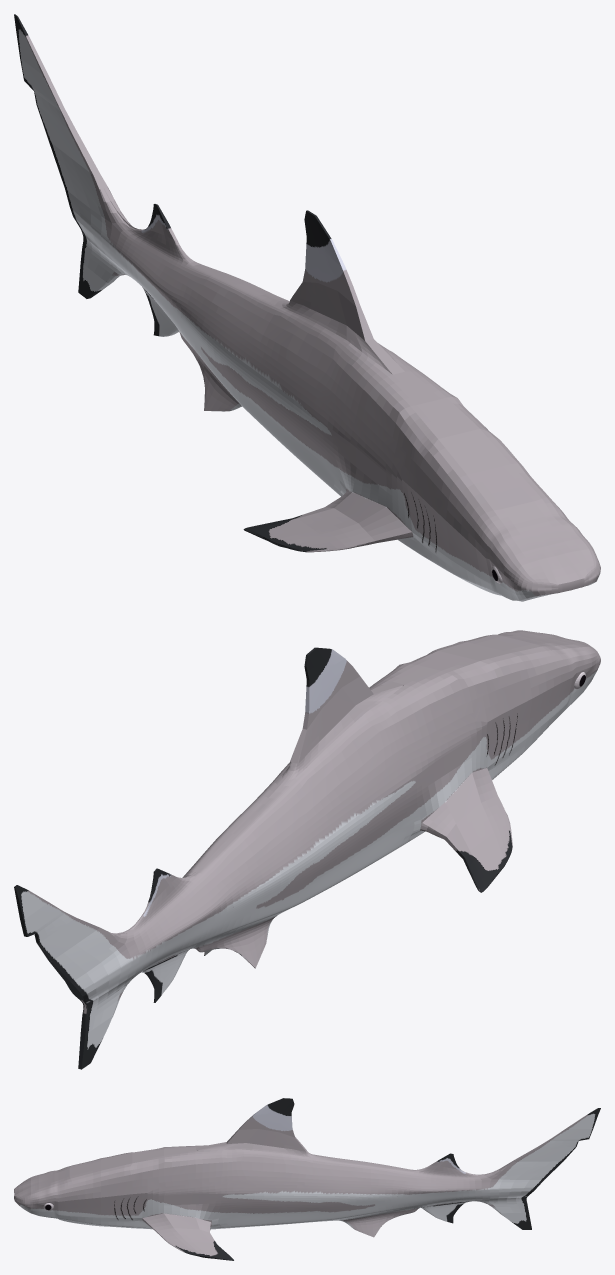
File: sharkv2_lowpoly.fbx
The picture shows the model from 3 angles, top to bottom: view 1: azimuth 30°, elevation 25°; view 2: azimuth 150°, elevation 25°; view 3: azimuth 270°, elevation 25°; orthographic projection. The views are drawn at different scales.
Parts seen in each view (by area): view 1: Cube; view 2: Cube; view 3: Cube.
Part boxes in pixels (left/top/right/bottom): Cube: left=14, top=14, right=600, bottom=601; Cube: left=14, top=630, right=600, bottom=1069; Cube: left=14, top=1098, right=600, bottom=1260.
Size of the model in its own units: 2.32 by 2.33 by 9.36.
